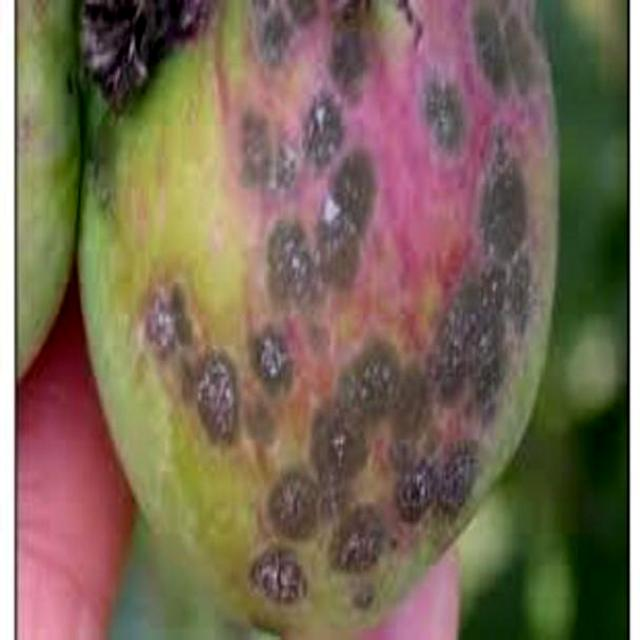SCAB: (86, 14, 604, 609)
